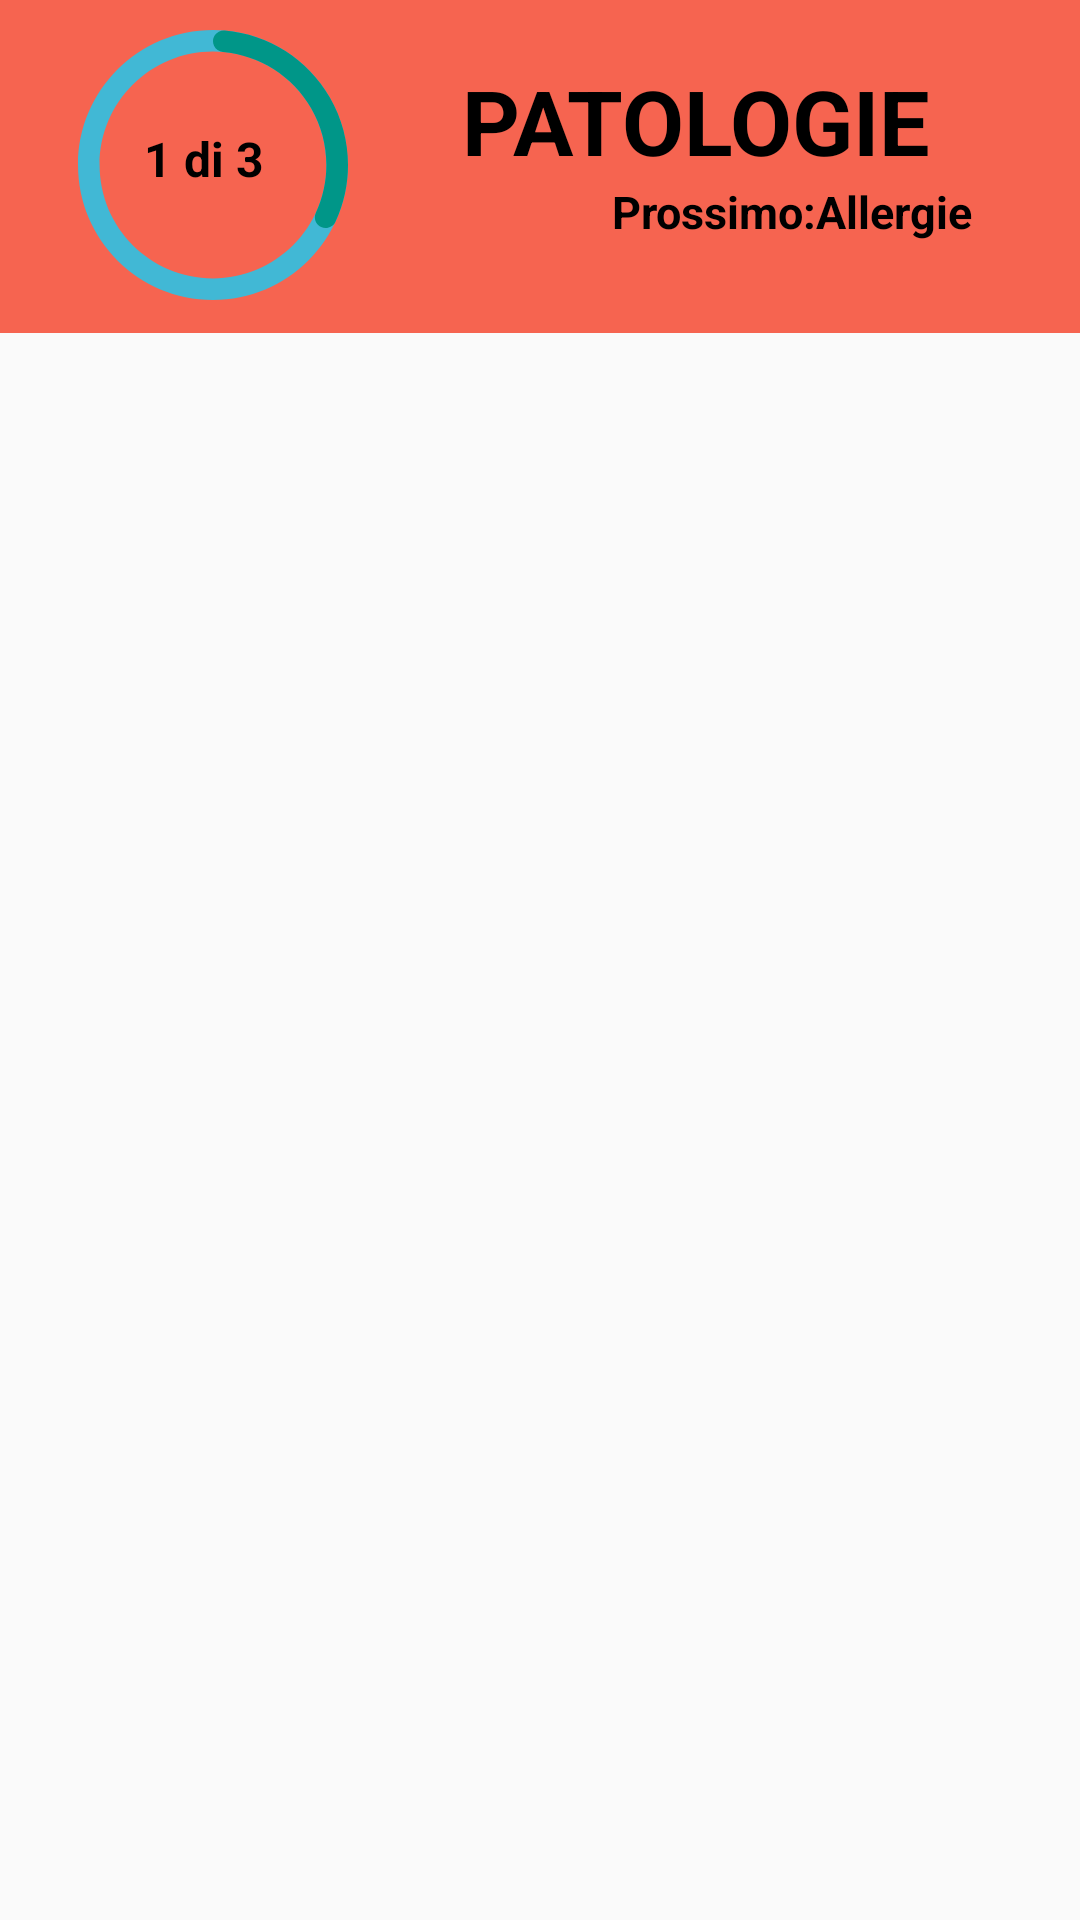

Named icons in this screenshot (1080 × 1920) and their bounding boxes, [x1=x1, y1=y1, x2=x2, y2=y2]:
circle: [x1=78, y1=30, x2=348, y2=300]
